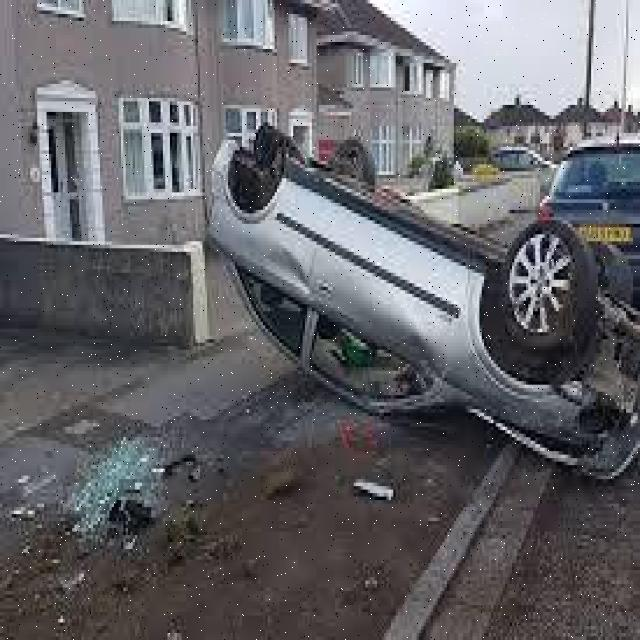severe: (207, 109, 640, 482)
